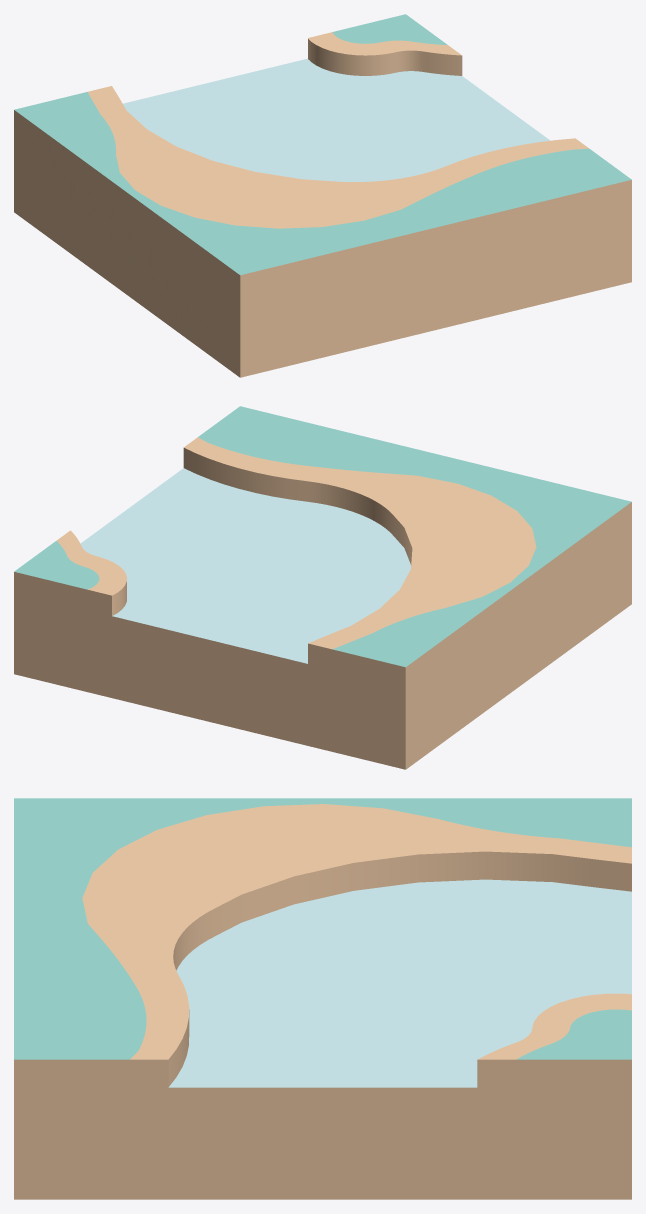
Rendered from ground_dirtRiverCornerBank.glb.
3 renders of one model, top to bottom at view 1: azimuth 30°, elevation 25°; view 2: azimuth 150°, elevation 25°; view 3: azimuth 270°, elevation 25°, orthographic. The views are drawn at different scales.
Visible parts, largest first — view 1: ground_dirtRiverCornerBank; view 2: ground_dirtRiverCornerBank; view 3: ground_dirtRiverCornerBank.
Part boxes in pixels (box(x1,y1,x2,y2)): ground_dirtRiverCornerBank: box(14, 14, 631, 377); ground_dirtRiverCornerBank: box(14, 406, 631, 769); ground_dirtRiverCornerBank: box(14, 798, 631, 1199).
Size of the model in its own units: 1 by 0.25 by 1.
